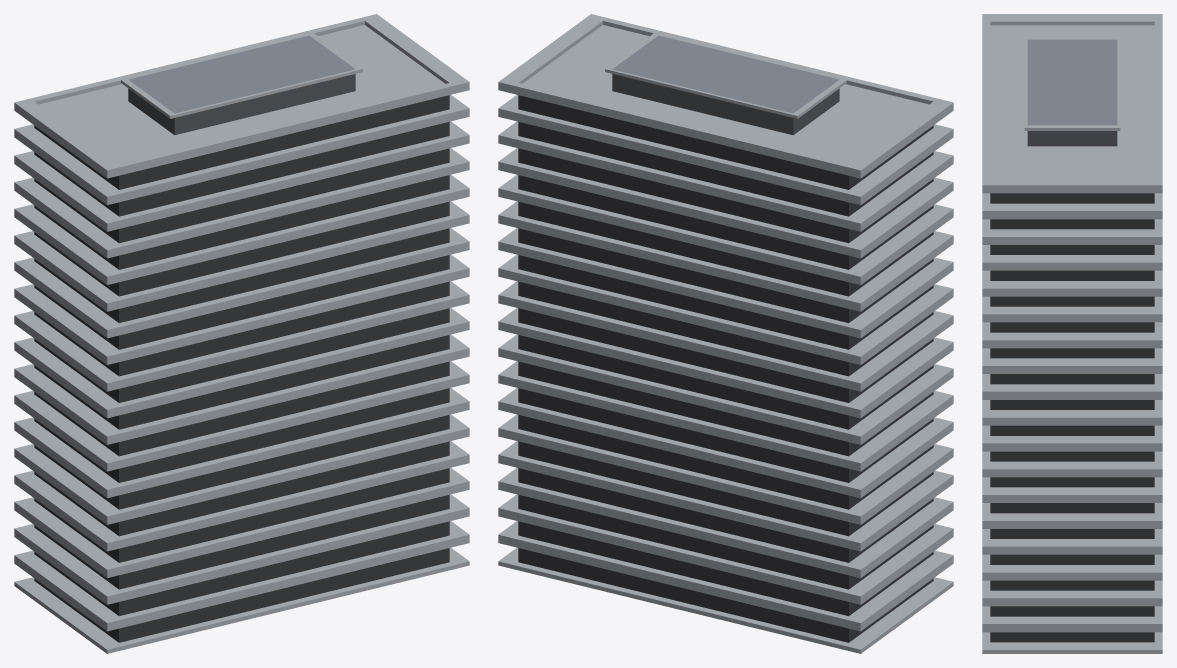
The model's file is Talo1.fbx.
3 renders of one model, left to right at view 1: azimuth 30°, elevation 25°; view 2: azimuth 150°, elevation 25°; view 3: azimuth 270°, elevation 25°, orthographic. The views are drawn at different scales.
Parts seen in each view (by area): view 1: talo1; view 2: talo1; view 3: talo1.
Part boxes in pixels (x1,y1,x2,y2): talo1: [14, 14, 469, 653]; talo1: [498, 14, 953, 653]; talo1: [982, 14, 1162, 653].
Bounding box in the file's own units: 337 × 445 × 150.
